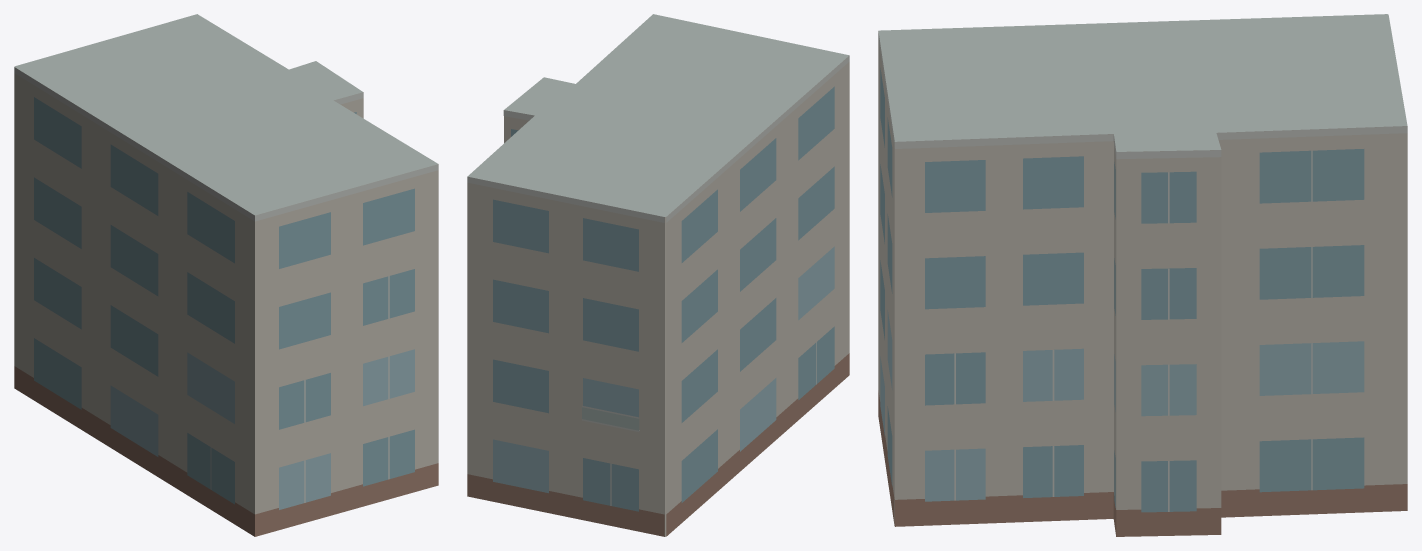
File: survey-upis-32606039.glb
3 renders of one model, left to right at view 1: azimuth 30°, elevation 25°; view 2: azimuth 150°, elevation 25°; view 3: azimuth 270°, elevation 25°, orthographic. The views are drawn at different scales.
Visible parts, largest first — view 1: survey-upis-32606039.tmp; view 2: survey-upis-32606039.tmp; view 3: survey-upis-32606039.tmp.
Part boxes in pixels (box(x1,y1,x2,y2)): survey-upis-32606039.tmp: box(14, 14, 438, 536); survey-upis-32606039.tmp: box(467, 14, 849, 536); survey-upis-32606039.tmp: box(878, 14, 1407, 536).
Bounding box in the file's own units: 10.01 × 13 × 16.21.
